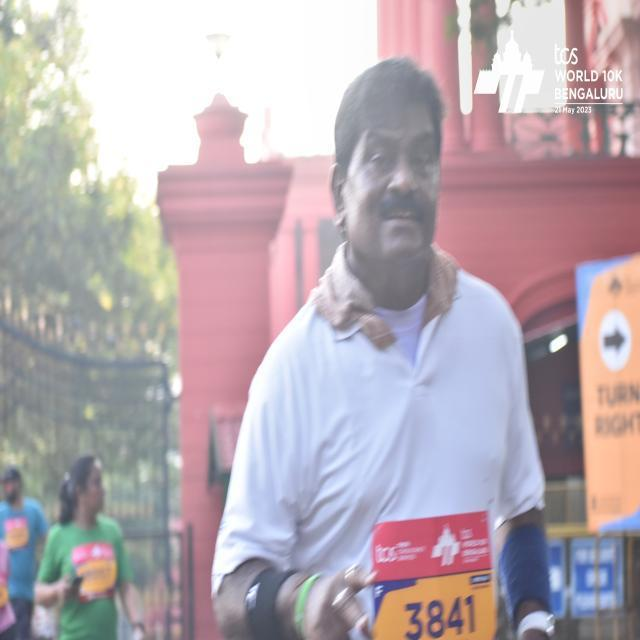dorsal: (368, 515, 496, 640)
